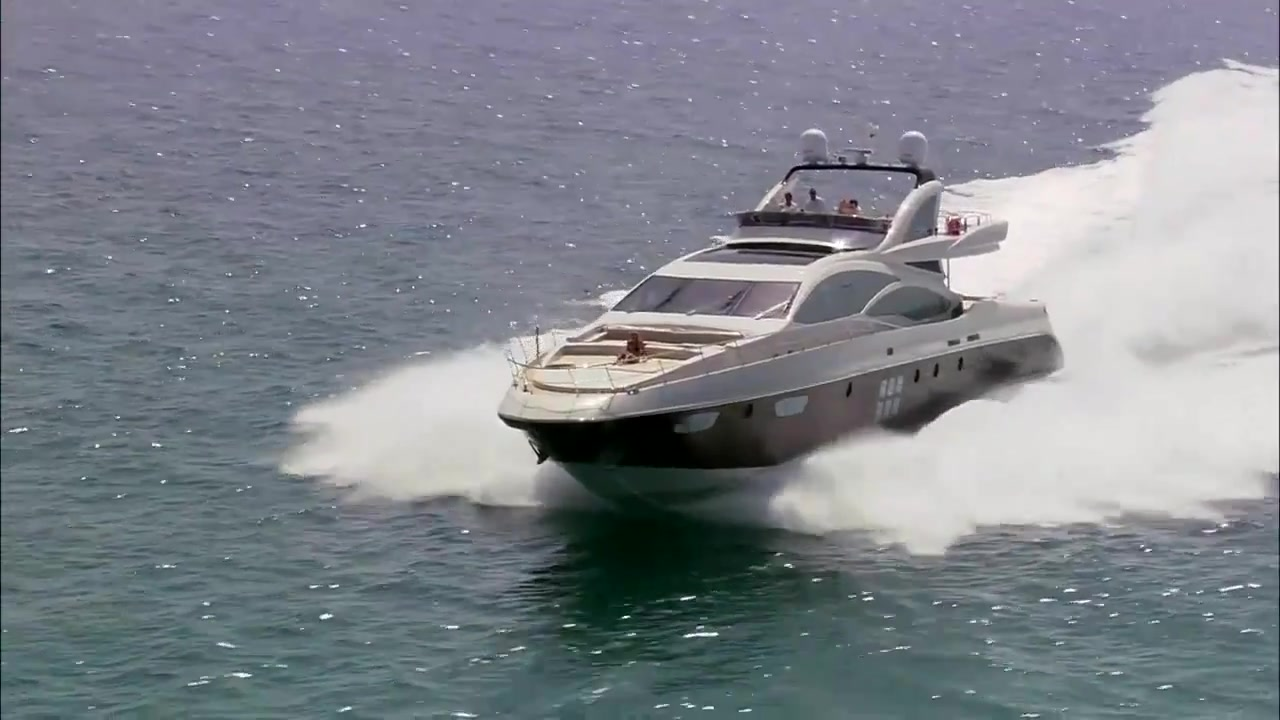boat: (491, 124, 1069, 506)
